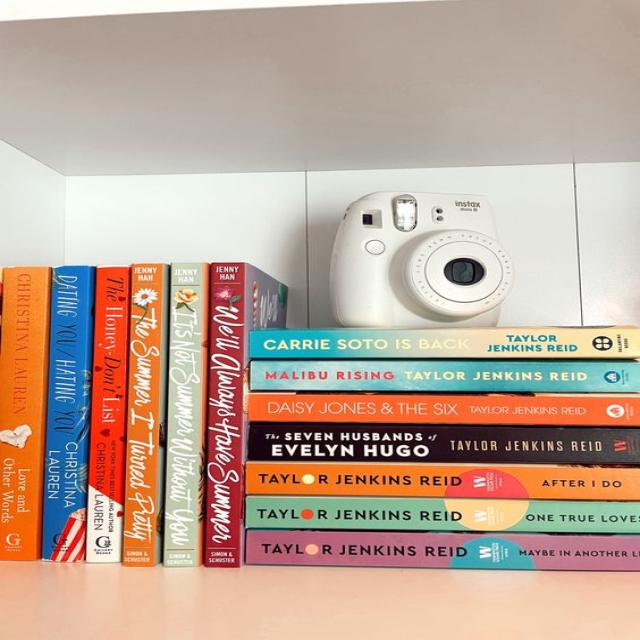book: (203, 262, 287, 567), (249, 422, 639, 465), (245, 529, 639, 570), (42, 266, 94, 561), (246, 462, 639, 500), (0, 268, 51, 560), (247, 497, 639, 533), (163, 263, 209, 567), (123, 264, 168, 566), (85, 268, 129, 563), (250, 328, 639, 361), (249, 394, 639, 425), (250, 362, 639, 391)
camera: (330, 191, 514, 327)
